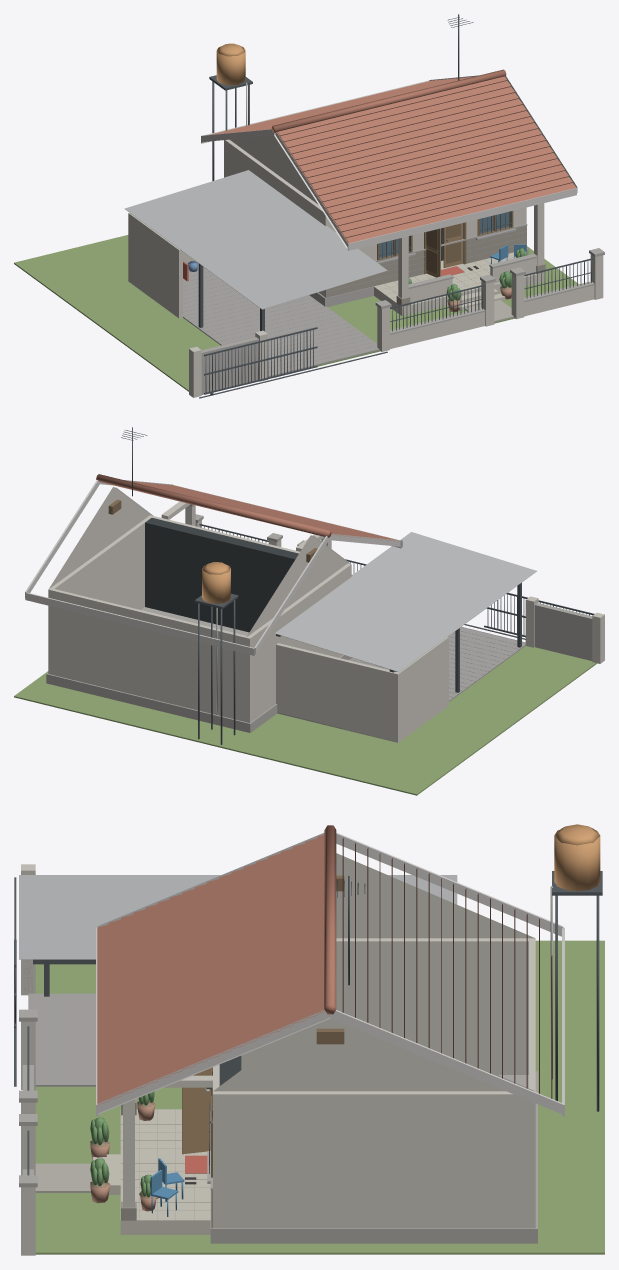
The model's file is rumah_sopir.glb.
3 views of the same model, one above another, from view 1: azimuth 30°, elevation 25°; view 2: azimuth 150°, elevation 25°; view 3: azimuth 270°, elevation 25° (orthographic). The views are drawn at different scales.
Visible parts, largest first — view 1: main, kanopi; view 2: main, kanopi; view 3: main, kanopi.
Part boxes in pixels (x1=…): main: x1=14, y1=14, x2=604, y2=398; kanopi: x1=124, y1=170, x2=387, y2=309; main: x1=14, y1=427, x2=604, y2=795; kanopi: x1=274, y1=532, x2=536, y2=671; main: x1=14, y1=824, x2=604, y2=1255; kanopi: x1=19, y1=875, x2=457, y2=959.
Size of the model in its own units: 16.36 by 8.35 by 12.81.
